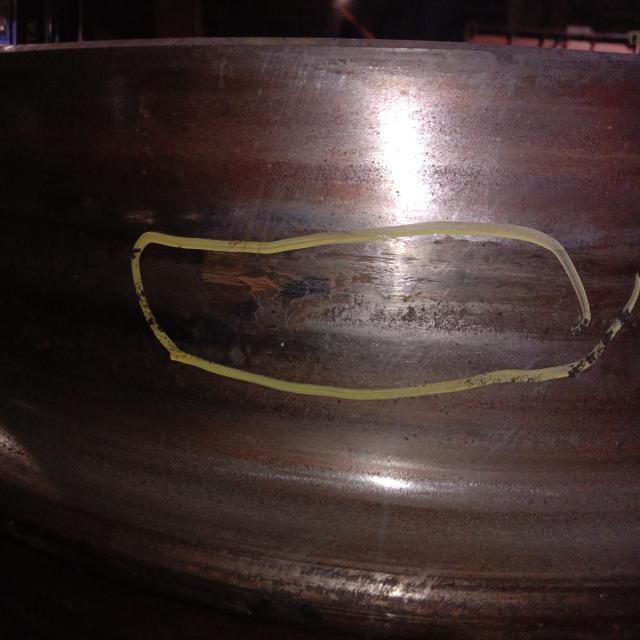flat: (202, 265, 557, 356)
